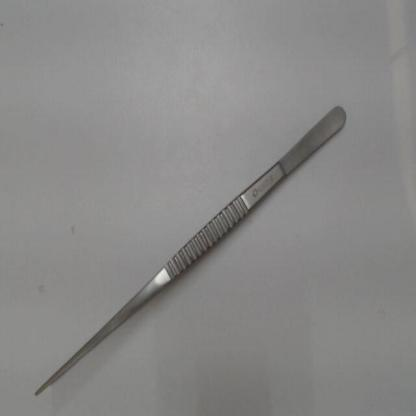DeBakey Dissector: (25, 90, 361, 407)
